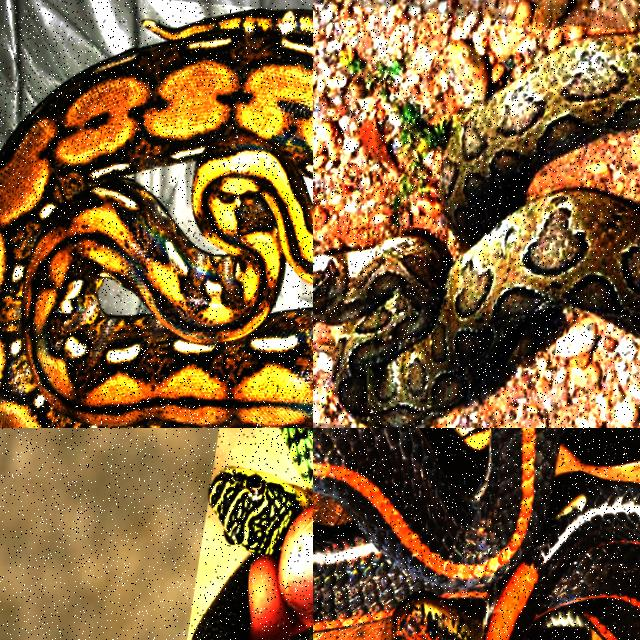Calliophis intestinalis: (313, 428, 639, 639)
Chrysopelea ornata: (209, 469, 312, 553)
Daboia siamensis: (313, 34, 639, 427)
Malayopython reticulatus: (0, 11, 312, 427)
